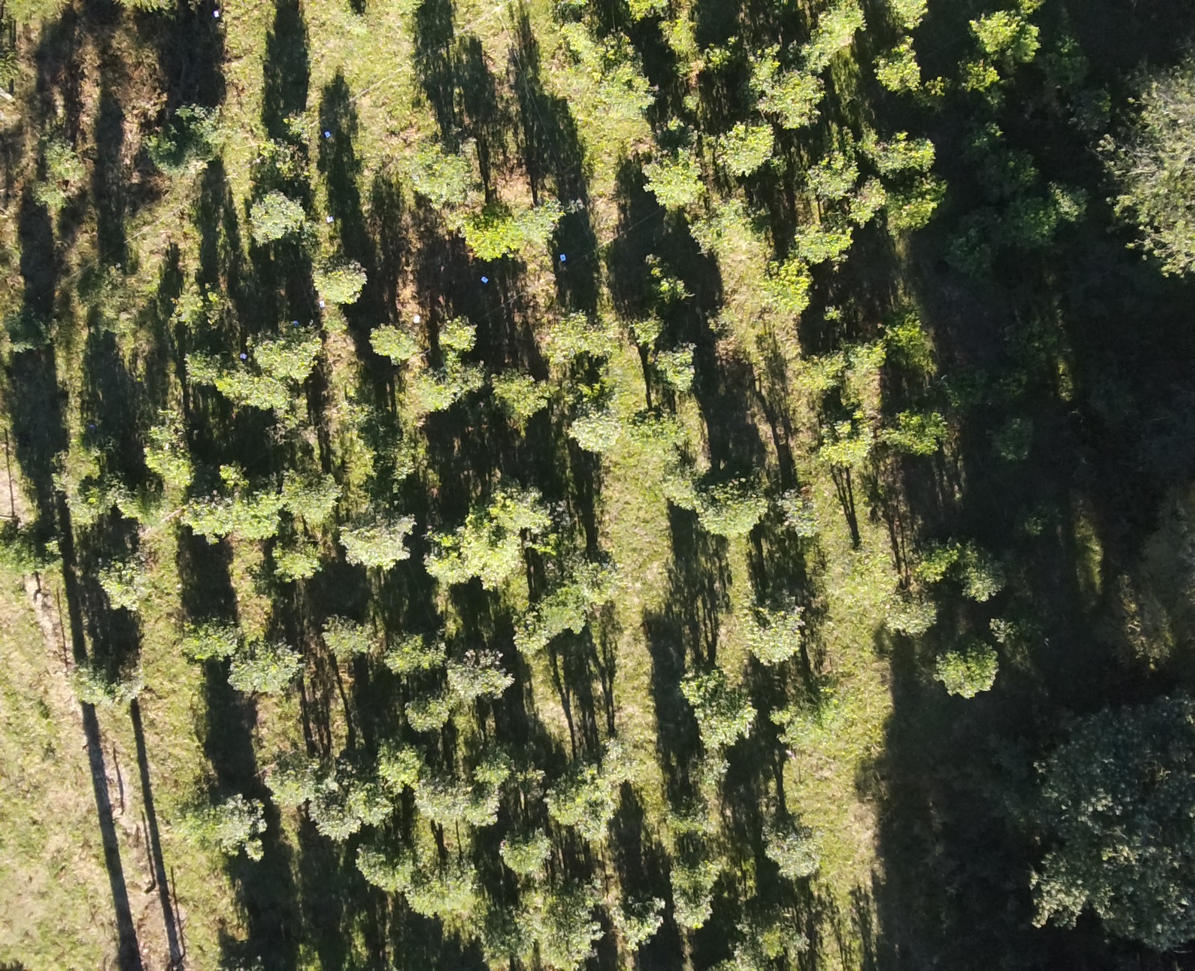erva: (735, 583, 807, 673), (683, 470, 774, 541), (662, 851, 736, 931), (775, 683, 844, 763), (228, 638, 313, 698), (337, 505, 416, 568), (940, 634, 1004, 710), (739, 264, 815, 327), (270, 536, 344, 597), (764, 820, 824, 885), (640, 156, 704, 216), (410, 775, 472, 836), (305, 256, 379, 307), (252, 331, 320, 385), (488, 371, 555, 425), (769, 75, 834, 130), (382, 629, 452, 680), (216, 365, 293, 411), (630, 393, 690, 452), (399, 690, 467, 742), (212, 792, 267, 854), (418, 151, 477, 208), (695, 694, 757, 748), (317, 610, 380, 663), (246, 194, 305, 249), (572, 405, 632, 459), (839, 526, 890, 589), (283, 470, 342, 524), (803, 217, 862, 271), (876, 585, 931, 642), (713, 118, 770, 173), (502, 829, 562, 881), (348, 841, 420, 884), (94, 556, 151, 610), (447, 647, 509, 696), (268, 757, 334, 803), (181, 615, 243, 663), (541, 312, 595, 367), (370, 315, 420, 372), (654, 344, 713, 392), (775, 481, 819, 544), (379, 739, 434, 789), (463, 214, 521, 261), (477, 745, 527, 799), (952, 545, 999, 602), (536, 590, 593, 636), (491, 481, 548, 527), (238, 491, 284, 548), (176, 285, 233, 331), (612, 888, 662, 940), (834, 179, 888, 227), (177, 494, 229, 543), (558, 755, 617, 798), (421, 546, 476, 590), (521, 197, 570, 246), (804, 152, 854, 200), (337, 773, 388, 819), (823, 415, 871, 463), (257, 140, 308, 182), (754, 916, 803, 959), (301, 803, 363, 836), (405, 368, 451, 412), (668, 668, 721, 706), (598, 736, 644, 779), (69, 652, 105, 704), (512, 607, 549, 657), (582, 795, 618, 843), (435, 311, 476, 349), (538, 784, 582, 819), (286, 105, 326, 142), (184, 350, 230, 382), (106, 679, 157, 705), (626, 307, 662, 341), (468, 795, 508, 821), (218, 465, 250, 494)
